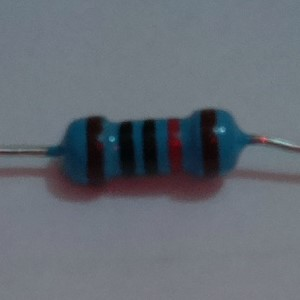black_band: (117, 117, 137, 178), (141, 116, 160, 179)
brown_band: (197, 105, 222, 180), (83, 113, 108, 188)
red_band: (165, 115, 186, 177)
